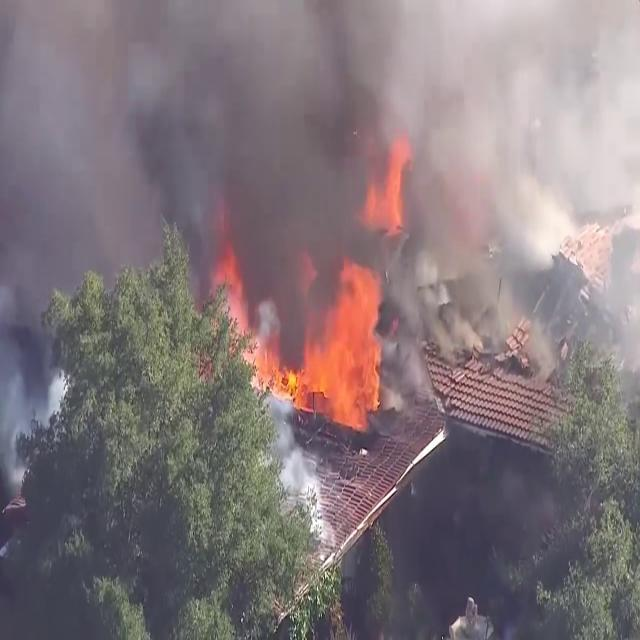Fire: (246, 248, 393, 422)
Smoke: (8, 1, 640, 370)
